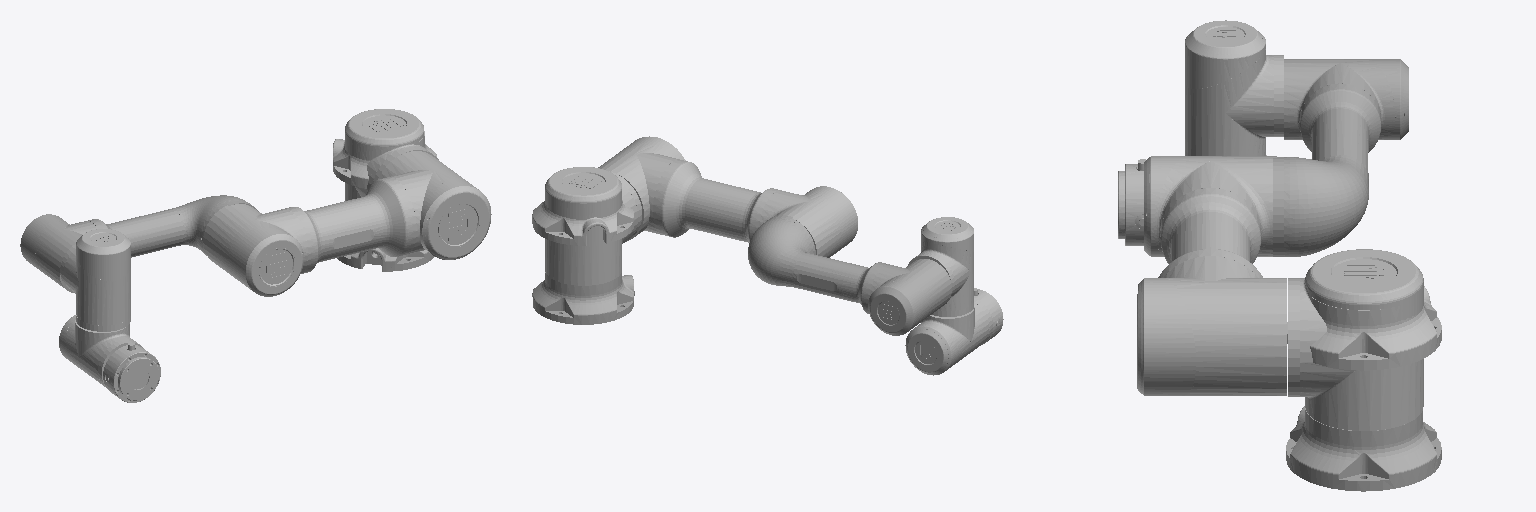
URDF robot description (iimt3):
<?xml version="1.0" encoding="utf-8"?>
<!-- This URDF was automatically created by SolidWorks to URDF Exporter! Originally created by Stephen Brawner (brawner@gmail.com) 
     Commit Version: 1.6.0-4-g7f85cfe  Build Version: 1.6.7995.38578
     For more information, please see http://wiki.ros.org/sw_urdf_exporter -->
<robot
  name="iimt3">
  <link
    name="base_link">
    <inertial>
      <origin
        xyz="-0.00114488660098564 -0.00112380986139073 0.0162533635658975"
        rpy="0 0 0" />
      <mass
        value="0.599172580593338" />
      <inertia
        ixx="0.00083289831139393"
        ixy="3.61202246017959E-05"
        ixz="1.56129019093849E-06"
        iyy="0.000833048088552861"
        iyz="1.72822157885521E-06"
        izz="0.00149072457496492" />
    </inertial>
    <visual>
      <origin
        xyz="0 0 0"
        rpy="0 0 0" />
      <geometry>
        <mesh
          filename="package://iimt_ros2_description/meshes/iimt3/visual/base_link.dae" />
      </geometry>
      <material
        name="">
        <color
          rgba="0.698039215686274 0.698039215686274 0.698039215686274 1" />
      </material>
    </visual>
    <collision>
      <origin
        xyz="0 0 0"
        rpy="0 0 0" />
      <geometry>
        <mesh
          filename="package://iimt_ros2_description/meshes/iimt3/collision/base_link.STL" />
      </geometry>
    </collision>
  </link>
  <link
    name="shoulder_link">
    <inertial>
      <origin
        xyz="4.77582933807681E-05 -0.0034575328903528 -0.0242553791285664"
        rpy="0 0 0" />
      <mass
        value="3.44075125581029" />
      <inertia
        ixx="0.00234756405516913"
        ixy="2.30946751936585E-06"
        ixz="-1.03191424507769E-05"
        iyy="0.00226307417952239"
        iyz="0.000153235167722978"
        izz="0.00344022291791415" />
    </inertial>
    <visual>
      <origin
        xyz="0 0 0"
        rpy="0 0 0" />
      <geometry>
        <mesh
          filename="package://iimt_ros2_description/meshes/iimt3/visual/shoulder_link.dae" />
      </geometry>
      <material
        name="">
        <color
          rgba="0.752941176470588 0.752941176470588 0.752941176470588 1" />
      </material>
    </visual>
    <collision>
      <origin
        xyz="0 0 0"
        rpy="0 0 0" />
      <geometry>
        <mesh
          filename="package://iimt_ros2_description/meshes/iimt3/collision/shoulder_link.STL" />
      </geometry>
    </collision>
  </link>
  <joint
    name="shoulder_joint"
    type="revolute">
    <origin
      xyz="0 0 0.118"
      rpy="0 0 0" />
    <parent
      link="base_link" />
    <child
      link="shoulder_link" />
    <axis
      xyz="0 0 1" />
    <limit
      lower="-6.2832"
      upper="6.2832"
      effort="95"
      velocity="3.14" />
  </joint>
  <link
    name="upper_arm_link">
    <inertial>
      <origin
        xyz="-0.0974686875310279 1.81199971482221E-05 0.118026401456409"
        rpy="0 0 0" />
      <mass
        value="5.87934275238358" />
      <inertia
        ixx="0.00427485752539079"
        ixy="3.74277592148204E-07"
        ixz="7.28779330209418E-05"
        iyy="0.00577734599208978"
        iyz="4.22840525648583E-06"
        izz="0.00723123782176771" />
    </inertial>
    <visual>
      <origin
        xyz="0 0 0"
        rpy="0 0 0" />
      <geometry>
        <mesh
          filename="package://iimt_ros2_description/meshes/iimt3/visual/upper_arm_link.dae" />
      </geometry>
      <material
        name="">
        <color
          rgba="0.752941176470588 0.752941176470588 0.752941176470588 1" />
      </material>
    </visual>
    <collision>
      <origin
        xyz="0 0 0"
        rpy="0 0 0" />
      <geometry>
        <mesh
          filename="package://iimt_ros2_description/meshes/iimt3/collision/upper_arm_link.STL" />
      </geometry>
    </collision>
  </link>
  <joint
    name="upper_arm_joint"
    type="revolute">
    <origin
      xyz="0 0 0"
      rpy="1.5708 0 0" />
    <parent
      link="shoulder_link" />
    <child
      link="upper_arm_link" />
    <axis
      xyz="0 0 1" />
    <limit
      lower="-2.6167"
      upper="2.6167"
      effort="95"
      velocity="3.14" />
  </joint>
  <link
    name="forearm_link">
    <inertial>
      <origin
        xyz="-0.160072720689279 -0.000450074941151429 0.0331313343865645"
        rpy="0 0 0" />
      <mass
        value="1.61411455863483" />
      <inertia
        ixx="0.00105610362663246"
        ixy="-1.9610761361323E-06"
        ixz="-0.00047408798718359"
        iyy="0.00380823776560526"
        iyz="-1.2709294419982E-06"
        izz="0.0039416280538603" />
    </inertial>
    <visual>
      <origin
        xyz="0 0 0"
        rpy="0 0 0" />
      <geometry>
        <mesh
          filename="package://iimt_ros2_description/meshes/iimt3/visual/fore_arm_link.dae" />
      </geometry>
      <material
        name="">
        <color
          rgba="0.698039215686274 0.698039215686274 0.698039215686274 1" />
      </material>
    </visual>
    <collision>
      <origin
        xyz="0 0 0"
        rpy="0 0 0" />
      <geometry>
        <mesh
          filename="package://iimt_ros2_description/meshes/iimt3/collision/fore_arm_link.STL" />
      </geometry>
    </collision>
  </link>
  <joint
    name="forearm_joint"
    type="revolute">
    <origin
      xyz="-0.273 0 0"
      rpy="0 0 0" />
    <parent
      link="upper_arm_link" />
    <child
      link="forearm_link" />
    <axis
      xyz="0 0 1" />
    <limit
      lower="-2.8783"
      upper="2.8783"
      effort="35"
      velocity="3.14" />
  </joint>
  <link
    name="wrist_1_link">
    <inertial>
      <origin
        xyz="-0.000738585431564132 -0.0124319222365512 -0.00250498807970474"
        rpy="0 0 0" />
      <mass
        value="0.982795368423135" />
      <inertia
        ixx="0.000435764398834042"
        ixy="1.55140622643867E-06"
        ixz="1.95732537712733E-06"
        iyy="0.000565040823505498"
        iyz="1.94515607288151E-05"
        izz="0.000429517694382352" />
    </inertial>
    <visual>
      <origin
        xyz="0 0 0"
        rpy="0 0 0" />
      <geometry>
        <mesh
          filename="package://iimt_ros2_description/meshes/iimt3/visual/wrist_1_link.dae" />
      </geometry>
      <material
        name="">
        <color
          rgba="0.752941176470588 0.752941176470588 0.752941176470588 1" />
      </material>
    </visual>
    <collision>
      <origin
        xyz="0 0 0"
        rpy="0 0 0" />
      <geometry>
        <mesh
          filename="package://iimt_ros2_description/meshes/iimt3/collision/wrist_1_link.STL" />
      </geometry>
    </collision>
  </link>
  <joint
    name="wrist_1_joint"
    type="revolute">
    <origin
      xyz="-0.225 0 0.1225"
      rpy="0 0 0" />
    <parent
      link="forearm_link" />
    <child
      link="wrist_1_link" />
    <axis
      xyz="0 0 1" />
    <limit
      lower="-3.0528"
      upper="3.0528"
      effort="17"
      velocity="3.14" />
  </joint>
  <link
    name="wrist_2_link">
    <inertial>
      <origin
        xyz="0.000738585440064943 0.0124319222746811 -0.00250498806633517"
        rpy="0 0 0" />
      <mass
        value="0.982795367220067" />
      <inertia
        ixx="0.000435764398731321"
        ixy="1.55140625947925E-06"
        ixz="-1.95732559840293E-06"
        iyy="0.000565040823219362"
        iyz="-1.94515607482804E-05"
        izz="0.000429517694177485" />
    </inertial>
    <visual>
      <origin
        xyz="0 0 0"
        rpy="0 0 0" />
      <geometry>
        <mesh
          filename="package://iimt_ros2_description/meshes/iimt3/visual/wrist_2_link.dae" />
      </geometry>
      <material
        name="">
        <color
          rgba="0.752941176470588 0.752941176470588 0.752941176470588 1" />
      </material>
    </visual>
    <collision>
      <origin
        xyz="0 0 0"
        rpy="0 0 0" />
      <geometry>
        <mesh
          filename="package://iimt_ros2_description/meshes/iimt3/collision/wrist_2_link.STL" />
      </geometry>
    </collision>
  </link>
  <joint
    name="wrist_2_joint"
    type="revolute">
    <origin
      xyz="0 -0.102 0"
      rpy="1.5708 0 0" />
    <parent
      link="wrist_1_link" />
    <child
      link="wrist_2_link" />
    <axis
      xyz="0 0 1" />
    <limit
      lower="-3.0528"
      upper="3.0528"
      effort="17"
      velocity="3.14" />
  </joint>
  <link
    name="wrist_3_link">
    <inertial>
      <origin
        xyz="8.61985766498208E-06 0.000181917876450079 -0.0129149559408659"
        rpy="0 0 0" />
      <mass
        value="0.161692321348108" />
      <inertia
        ixx="7.12791519797861E-05"
        ixy="6.84114525810483E-10"
        ixz="1.0986508715223E-10"
        iyy="7.31730956707241E-05"
        iyz="-2.3628165056841E-08"
        izz="0.000126702124638773" />
    </inertial>
    <visual>
      <origin
        xyz="0 0 0"
        rpy="0 0 0" />
      <geometry>
        <mesh
          filename="package://iimt_ros2_description/meshes/iimt3/visual/wrist_3_link.dae" />
      </geometry>
      <material
        name="">
        <color
          rgba="0.752941176470588 0.752941176470588 0.752941176470588 1" />
      </material>
    </visual>
    <collision>
      <origin
        xyz="0 0 0"
        rpy="0 0 0" />
      <geometry>
        <mesh
          filename="package://iimt_ros2_description/meshes/iimt3/collision/wrist_3_link.STL" />
      </geometry>
    </collision>
  </link>
  <joint
    name="wrist_3_joint"
    type="revolute">
    <origin
      xyz="0 0.089 0"
      rpy="-1.5708 0 0" />
    <parent
      link="wrist_2_link" />
    <child
      link="wrist_3_link" />
    <axis
      xyz="0 0 1" />
    <limit
      lower="-6.2832"
      upper="6.2832"
      effort="17"
      velocity="3.14" />
  </joint>
</robot>

--- What the picture shows (computed from the rendered views, not written in the file) ---
Views: 3 orthographic renders of the robot side by side, from view 1: azimuth 30°, elevation 25°; view 2: azimuth 150°, elevation 25°; view 3: azimuth 270°, elevation 25°.
Robot: iimt3 — 7 links, 6 joints (6 revolute); root link base_link; default pose: every joint at zero.
Links seen in each view (by area): view 1: upper_arm_link, forearm_link, wrist_1_link, shoulder_link, wrist_3_link, wrist_2_link, base_link; view 2: upper_arm_link, forearm_link, shoulder_link, wrist_2_link, base_link, wrist_1_link, wrist_3_link; view 3: upper_arm_link, shoulder_link, forearm_link, wrist_1_link, base_link, wrist_3_link.
Boxes of the visible links, x1,y1,x2,y2 form: upper_arm_link: [203, 151, 491, 296]; forearm_link: [20, 195, 258, 293]; wrist_1_link: [60, 229, 130, 331]; shoulder_link: [333, 109, 438, 200]; wrist_3_link: [103, 343, 160, 402]; wrist_2_link: [59, 315, 142, 386]; base_link: [337, 248, 434, 271]; upper_arm_link: [598, 136, 857, 257]; forearm_link: [748, 215, 951, 335]; shoulder_link: [532, 167, 641, 285]; wrist_2_link: [905, 298, 992, 375]; base_link: [532, 272, 634, 324]; wrist_1_link: [908, 217, 973, 316]; wrist_3_link: [974, 288, 1003, 344]; upper_arm_link: [1137, 156, 1286, 395]; shoulder_link: [1287, 249, 1441, 430]; forearm_link: [1273, 59, 1408, 256]; wrist_1_link: [1185, 20, 1283, 155]; base_link: [1286, 406, 1441, 491]; wrist_3_link: [1118, 159, 1145, 245].
Bounding box of the posed robot: 0.604 × 0.2865 × 0.2031 m (x, y, z).
7 mesh visuals loaded from 7 distinct referenced files (7 Collada DAE).
